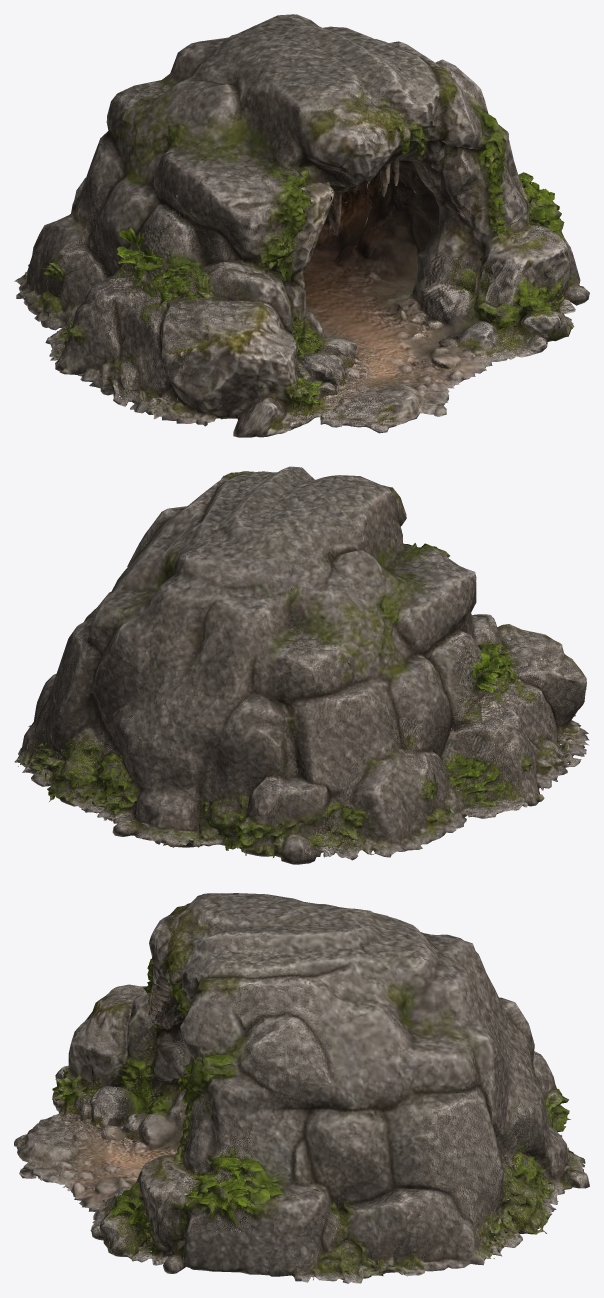
The model's file is torchlit_grotto.glb.
3 renders of one model, top to bottom at view 1: azimuth 30°, elevation 25°; view 2: azimuth 150°, elevation 25°; view 3: azimuth 270°, elevation 25°, orthographic. The views are drawn at different scales.
Visible parts, largest first — view 1: Mesh_0; view 2: Mesh_0; view 3: Mesh_0.
Part boxes in pixels (left/top/right/bottom): Mesh_0: left=14, top=14, right=589, bottom=437; Mesh_0: left=14, top=466, right=589, bottom=864; Mesh_0: left=14, top=893, right=589, bottom=1283.
Size of the model in its own units: 1.89 by 0.9856 by 1.89.
1 material, 1 textured.
